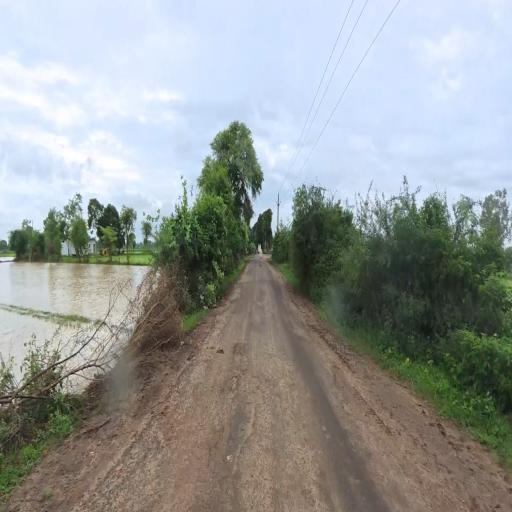ravelling: (193, 335, 274, 512)
